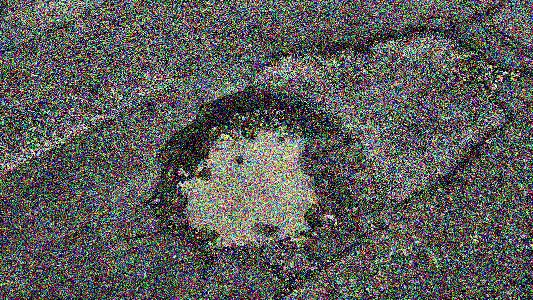pothole: (148, 82, 345, 264)
